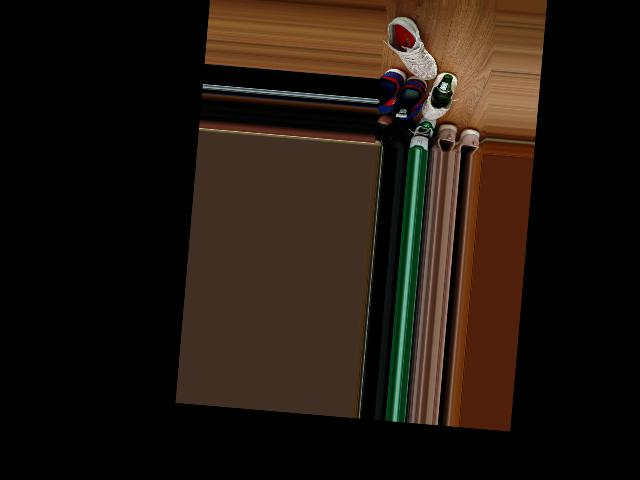beer: (430, 72, 454, 108)
